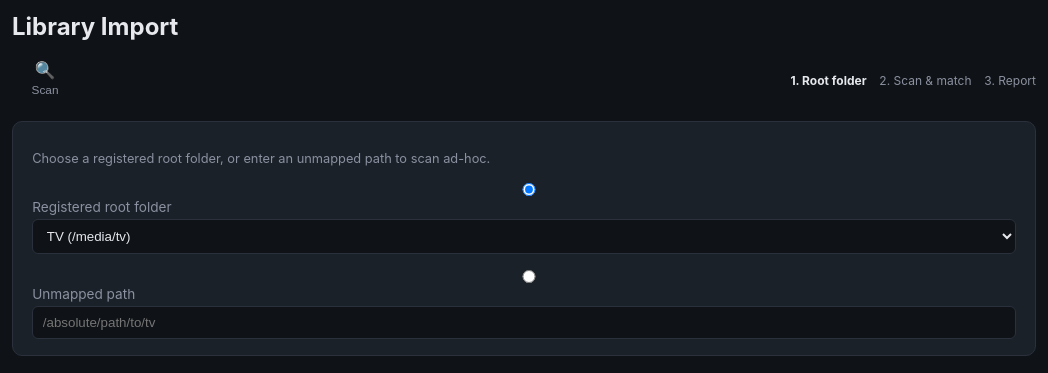
it: LibraryImportPage (P2 wizard) › supports an unmapped free path
Step 1. Click the radio button with test id "import-mode-path" → (529, 277), box [37,270,1021,284]
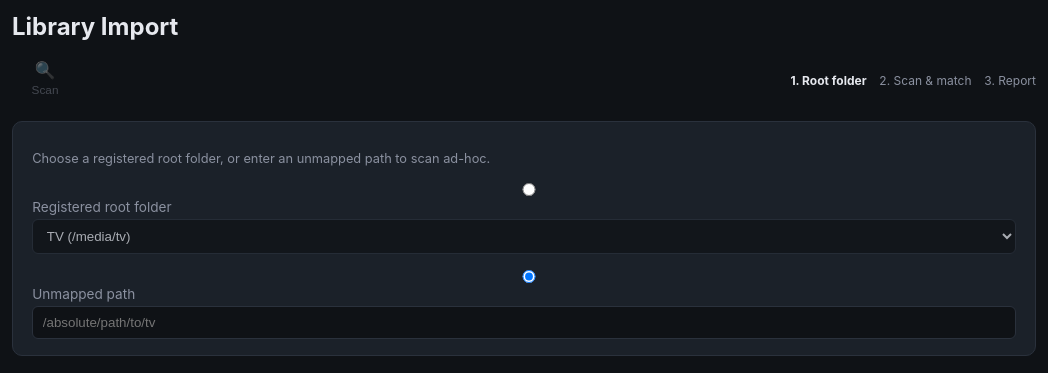
Step 2. Type "/data/series" into the field with test id "import-path-input" → (524, 323), box [32,306,1016,340]
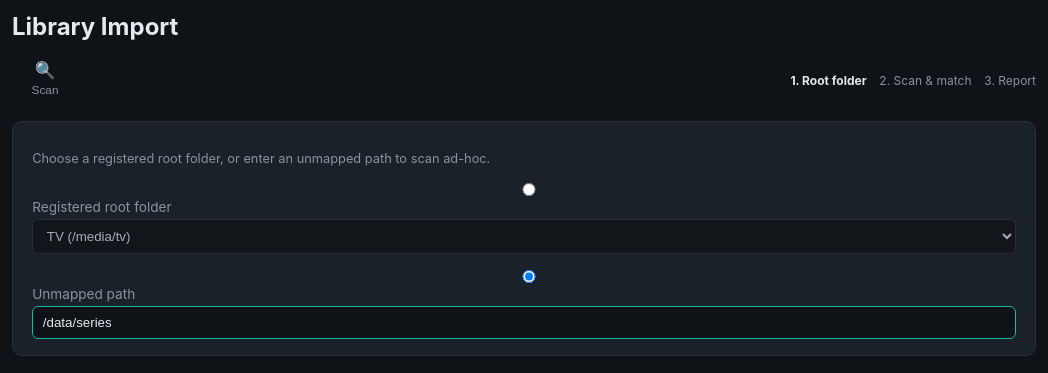
Step 3. Click the button with test id "import-scan" → (45, 80), box [12,55,78,105]
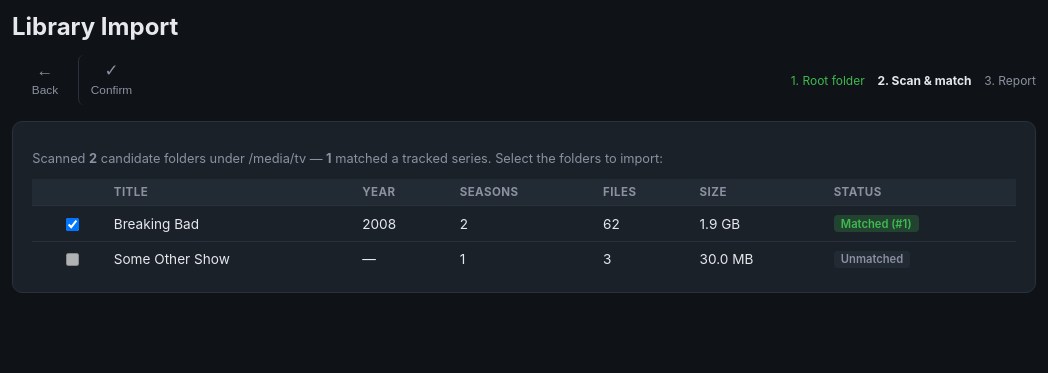
Expected: the element with test id "import-results" is shown, [12,121,1036,293]
